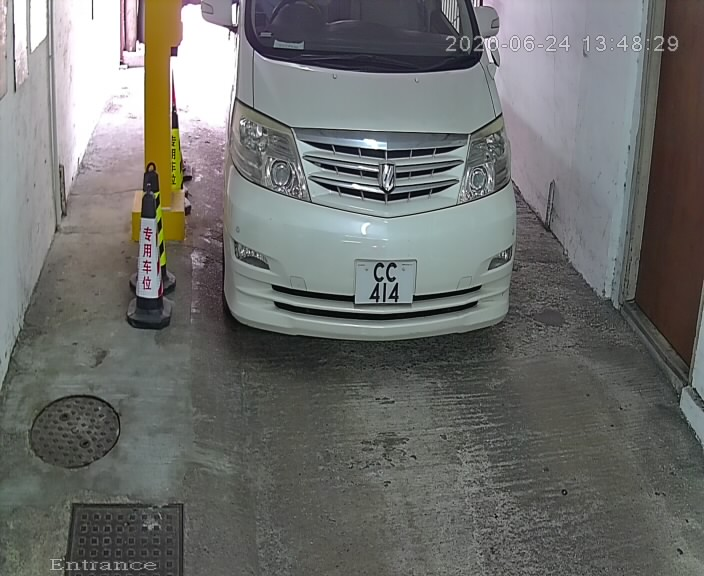Car: (196, 1, 536, 360)
License Plate: (345, 252, 427, 312)
